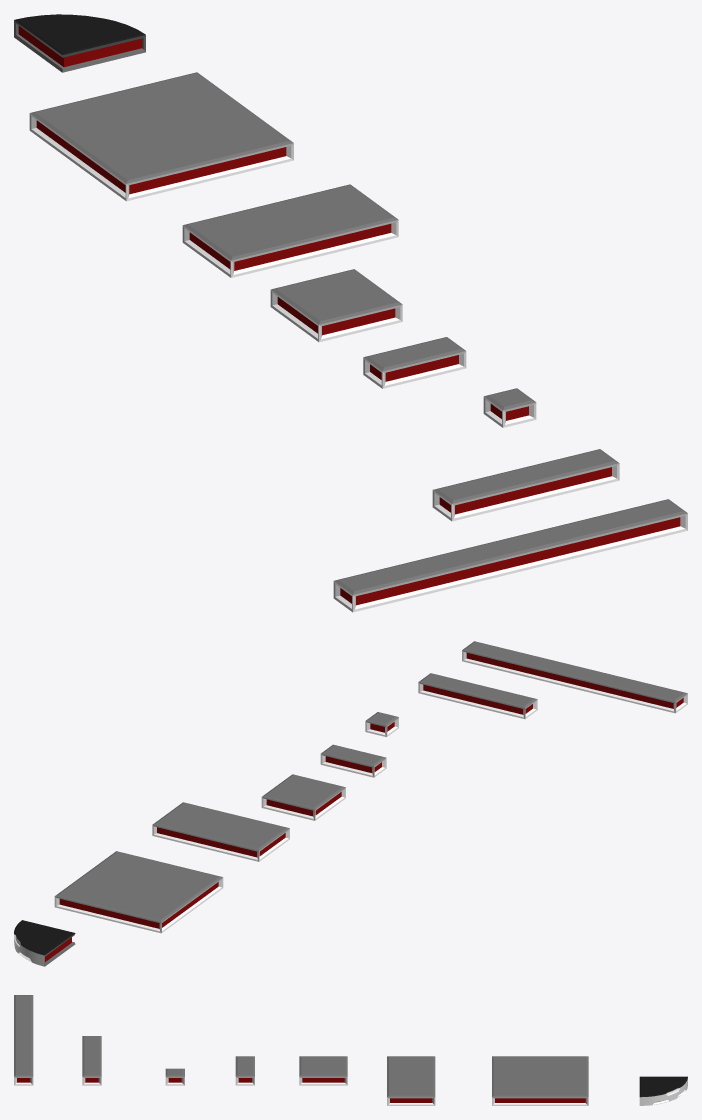
The model's file is CityInteriorFloors00.fbx.
3 renders of one model, top to bottom at view 1: azimuth 30°, elevation 25°; view 2: azimuth 150°, elevation 25°; view 3: azimuth 270°, elevation 25°, orthographic. The views are drawn at different scales.
Visible parts, largest first — view 1: Box001, Box010, Box002, Box009, Box003, Cylinder001, Box004, Box005; view 2: Box001, Box010, Box002, Box009, Box003, Cylinder001, Box004, Box005; view 3: Box001, Box002, Box010, Box003, Cylinder001, Box009, Box004, Box005.
Part boxes in pixels (x1,y1,x2,y2): Box001: (29, 72, 293, 201); Box010: (333, 499, 687, 612); Box002: (182, 184, 398, 277); Box009: (432, 449, 619, 521); Box003: (270, 269, 402, 342); Cylinder001: (14, 14, 145, 72); Box004: (363, 337, 466, 388); Box005: (483, 388, 536, 427); Box001: (54, 851, 223, 933); Box010: (462, 641, 687, 713); Box002: (152, 802, 289, 861); Box009: (418, 673, 537, 719); Box003: (261, 774, 345, 820); Cylinder001: (14, 920, 75, 966); Box004: (320, 744, 386, 777); Box005: (365, 712, 398, 737); Box001: (492, 1056, 588, 1105); Box002: (387, 1056, 435, 1105); Box010: (14, 995, 33, 1085); Box003: (299, 1056, 347, 1085); Cylinder001: (639, 1076, 687, 1105); Box009: (82, 1036, 101, 1085); Box004: (235, 1056, 254, 1085); Box005: (165, 1068, 184, 1085).
Bounding box in the file's own units: 125 × 5.77 × 348.
